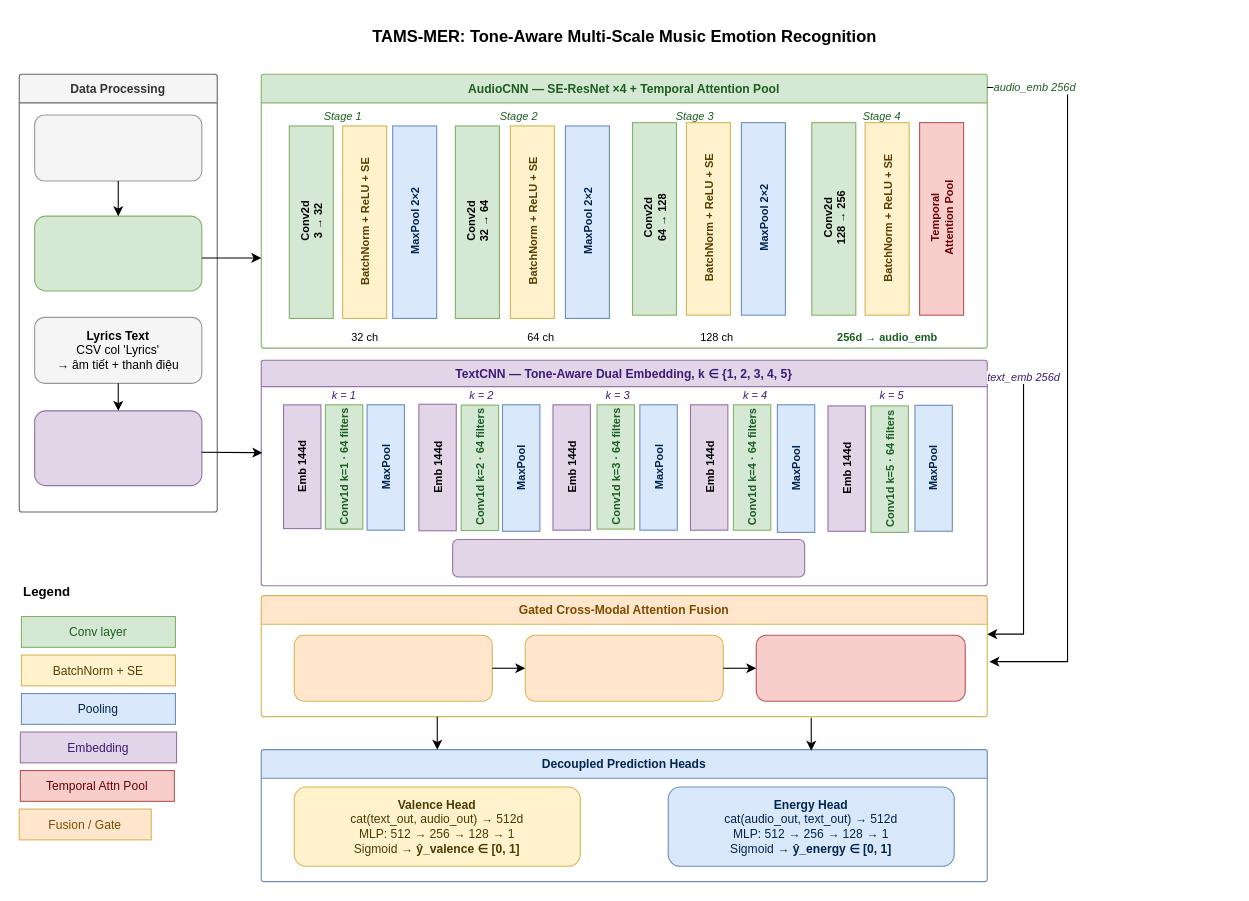
Some shapes in this 1249 by 901 pixel diagram are drawn without their labels. Here are the shapes that lost their labels. From the top down, the centre of each, then its label:
(x=118, y=147): Raw Audio .mp3 / .wav 30 s · 22 050 Hz
(x=118, y=253): Multi-res Mel hop = 256 / 512 / 1024 → (3, 128, 256)
(x=118, y=448): Tone Tokenizer emb_sem 128d emb_tone 16d → 144d
(x=628, y=557): Concat 320d → FC (256d) → text_emb 256d
(x=392, y=667): t2a Attention query = text key / val = audio
(x=623, y=667): a2t Attention query = audio key / val = text
(x=860, y=667): Adaptive Gate gate_a = σ(W·[a ; t]) · a2t gate_t = σ(W·[a ; t]) · t2a
